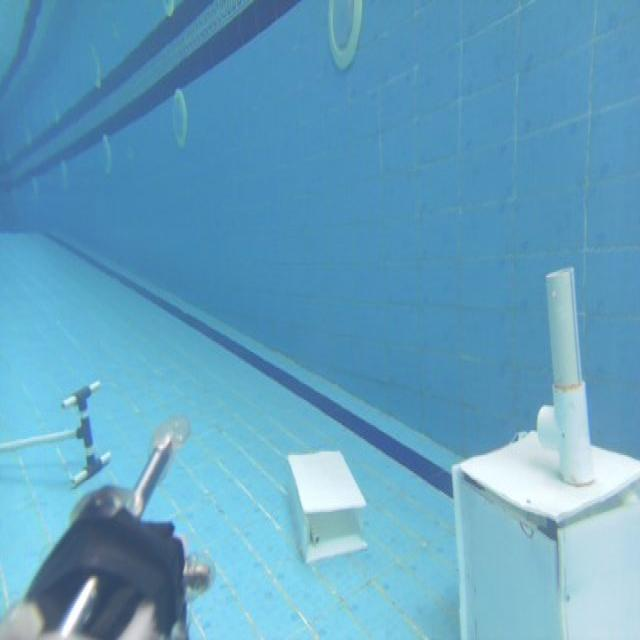Cube: (448, 417, 640, 640)
Cuboid: (286, 446, 368, 564)
